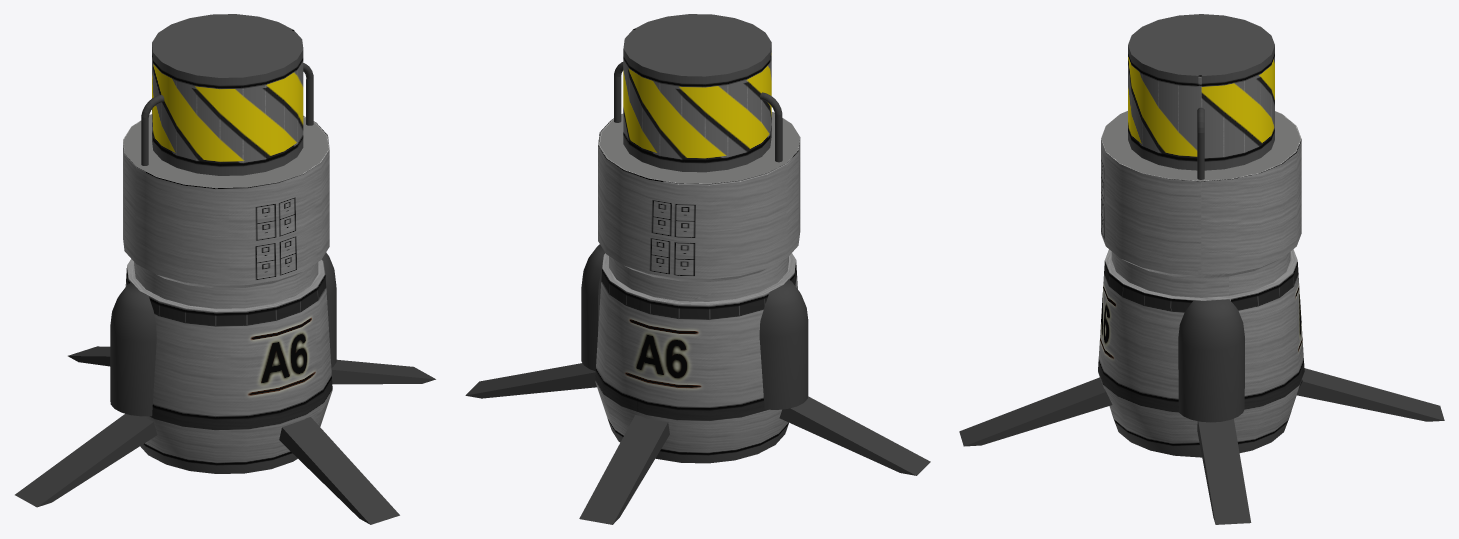
Rendered from MiningStation.FBX.
3 views of the same model, side by side, from view 1: azimuth 30°, elevation 25°; view 2: azimuth 150°, elevation 25°; view 3: azimuth 270°, elevation 25° (orthographic). The views are drawn at different scales.
Visible parts, largest first — view 1: MiningStation; view 2: MiningStation; view 3: MiningStation.
Boxes of the visible parts, x1=… form: MiningStation: x1=15, y1=14, x2=435, y2=524; MiningStation: x1=465, y1=14, x2=930, y2=524; MiningStation: x1=959, y1=14, x2=1444, y2=524.
Bounding box in the file's own units: 605 × 520 × 605.
Materials: 1 (1 with a texture image).
